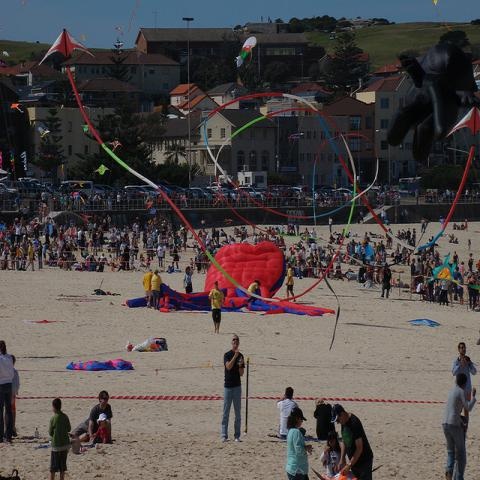bus: (58, 181, 92, 199)
car: (57, 180, 103, 195), (186, 187, 214, 205), (95, 184, 120, 198), (120, 188, 146, 200), (167, 186, 194, 197), (238, 186, 262, 198), (125, 185, 155, 194), (156, 184, 172, 196), (339, 188, 351, 198), (215, 188, 231, 194), (230, 188, 239, 198), (28, 180, 40, 184)
